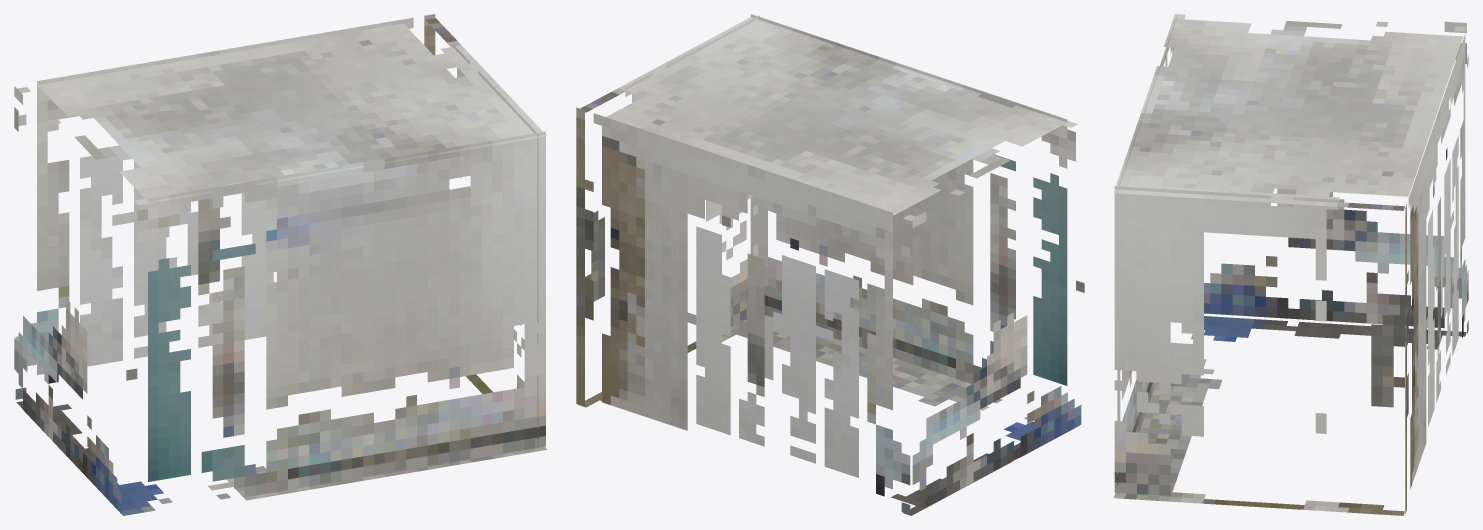
The model's file is fill.glb.
3 renders of one model, left to right at view 1: azimuth 30°, elevation 25°; view 2: azimuth 150°, elevation 25°; view 3: azimuth 270°, elevation 25°, orthographic. The views are drawn at different scales.
Visible parts, largest first — view 1: estimated_surfaces; view 2: estimated_surfaces; view 3: estimated_surfaces.
Part boxes in pixels (x1,y1,x2,y2): estimated_surfaces: (14, 14, 547, 515); estimated_surfaces: (576, 14, 1084, 515); estimated_surfaces: (1113, 14, 1468, 515).
Size of the model in its own units: 14.51 by 10.33 by 10.79.
